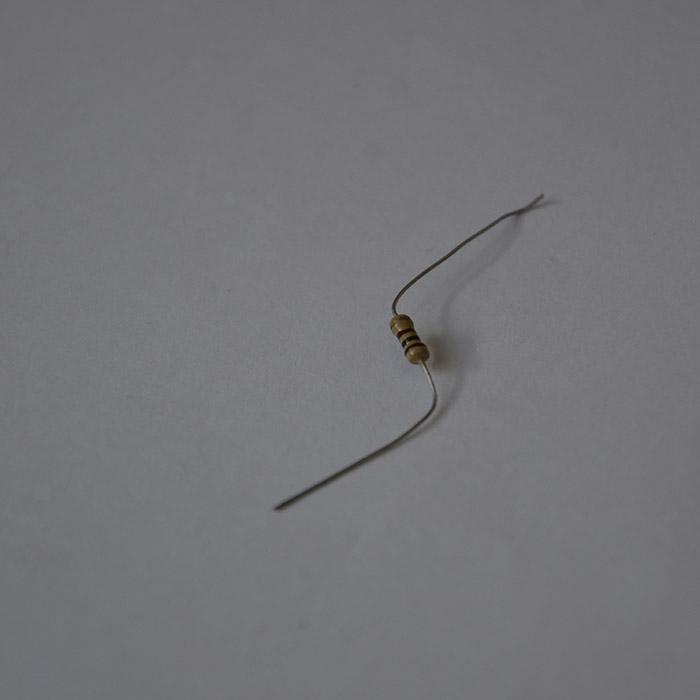resistor: (388, 312, 427, 364)
